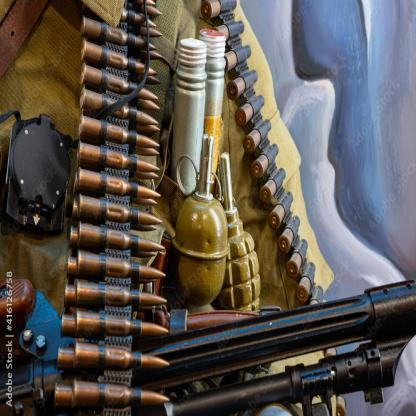Grenade: (209, 146, 261, 313), (177, 132, 228, 301)
Gun: (0, 279, 416, 416)
